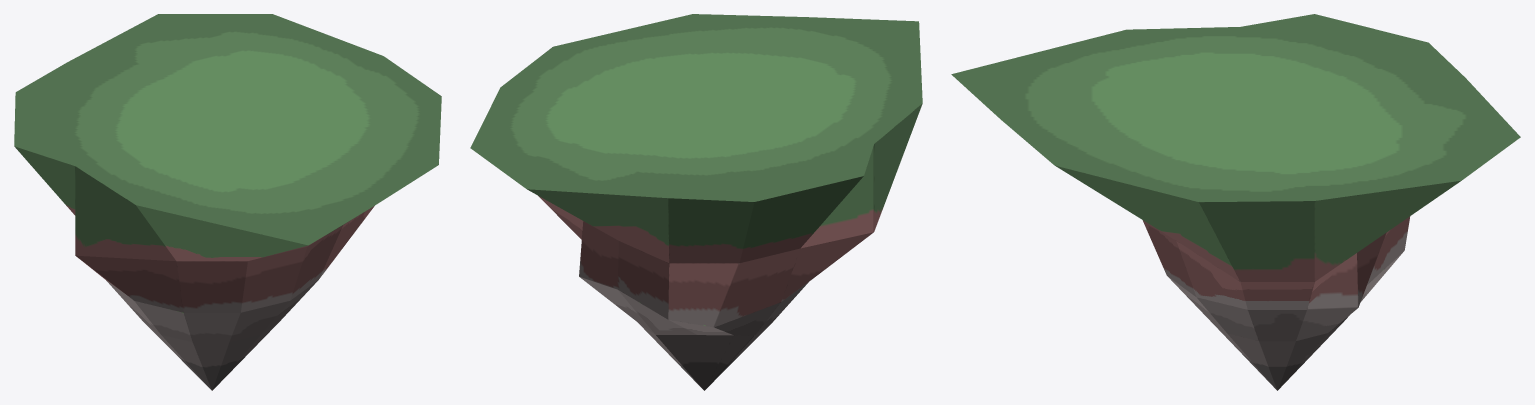
File: island.fbx
The picture shows the model from 3 angles, left to right: view 1: azimuth 30°, elevation 25°; view 2: azimuth 150°, elevation 25°; view 3: azimuth 270°, elevation 25°; orthographic projection. The views are drawn at different scales.
Visible parts, largest first — view 1: cylinder; view 2: cylinder; view 3: cylinder.
Part boxes in pixels (x1,y1,x2,y2): cylinder: (14, 14, 441, 390); cylinder: (470, 14, 922, 390); cylinder: (951, 14, 1520, 390).
Size of the model in its own units: 1006 by 712 by 1288.
Materials: 1 (1 with a texture image).
